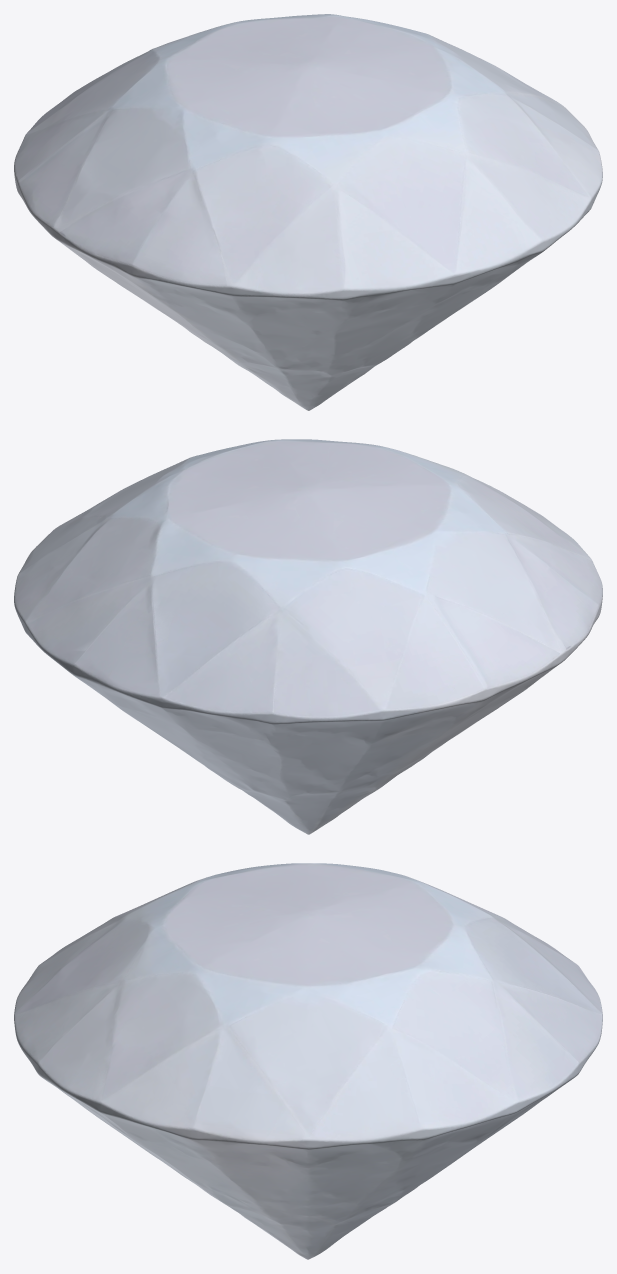
Rendered from Rubi.glb.
The picture shows the model from 3 angles, top to bottom: view 1: azimuth 30°, elevation 25°; view 2: azimuth 150°, elevation 25°; view 3: azimuth 270°, elevation 25°; orthographic projection.
Size of the model in its own units: 1.9 by 1.23 by 1.9.
1 material, 1 textured.
